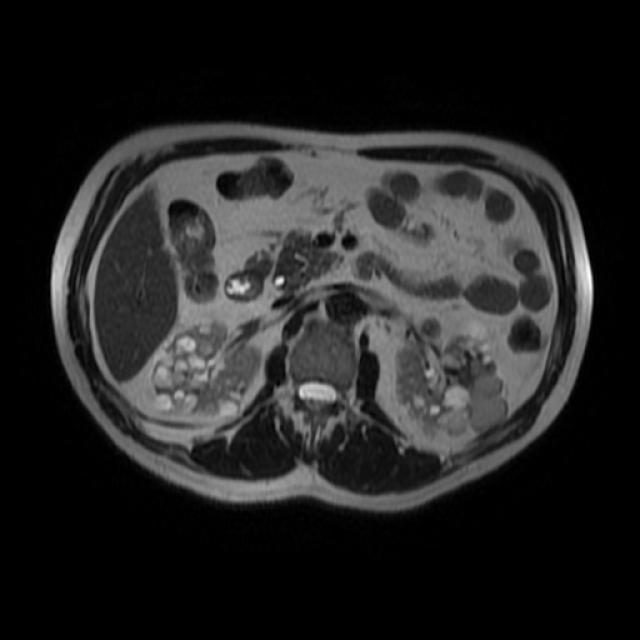sag: (150, 317, 263, 419)
sol: (394, 316, 510, 442)
